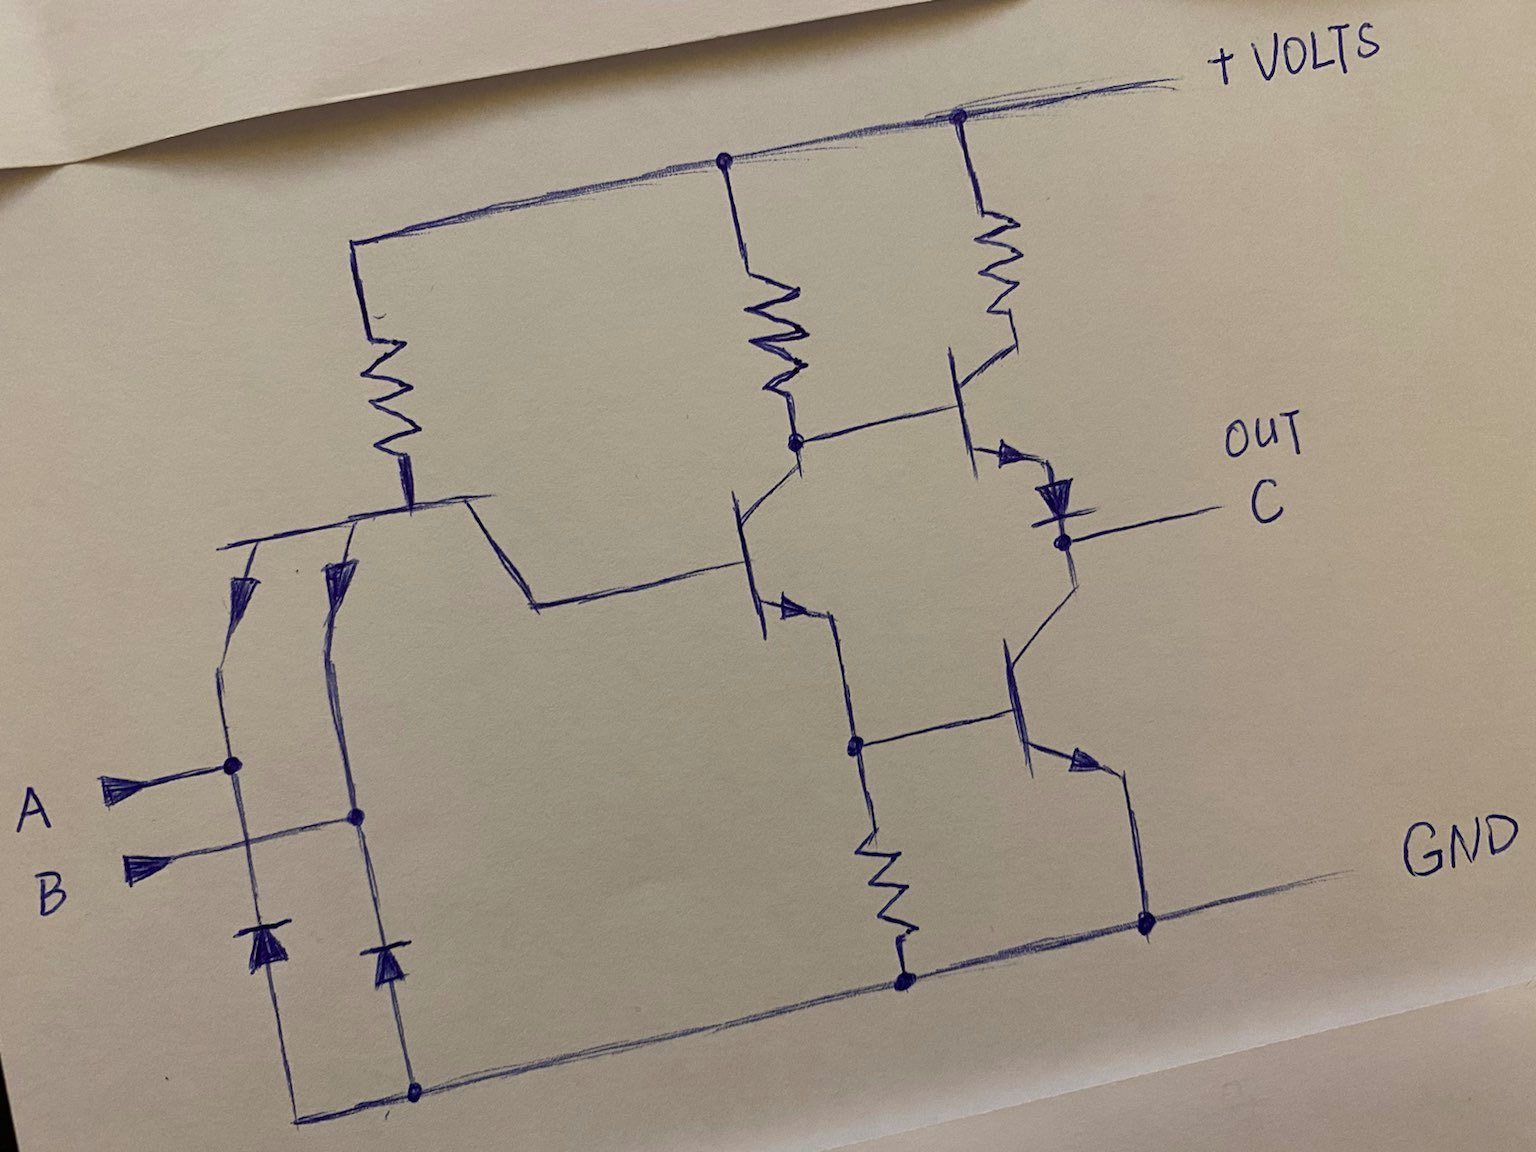crossover: (233, 829, 262, 856)
diode: (229, 911, 304, 980), (356, 932, 422, 993), (1029, 477, 1103, 528)
junction: (703, 134, 750, 186), (330, 791, 377, 837), (937, 92, 982, 138), (1126, 900, 1171, 944), (392, 1070, 435, 1114), (836, 719, 873, 770), (336, 223, 381, 264), (890, 960, 926, 1001), (209, 745, 249, 781), (781, 422, 818, 457), (281, 1100, 314, 1137), (1049, 531, 1087, 555)
resistor: (734, 261, 816, 402), (356, 321, 428, 463), (851, 820, 926, 947), (968, 196, 1035, 326)
terminal: (112, 843, 190, 889), (1294, 858, 1365, 900), (91, 766, 158, 810), (1128, 63, 1194, 100), (1176, 486, 1229, 524)
text: (1396, 808, 1523, 879), (1248, 21, 1384, 81), (1217, 404, 1307, 457), (25, 866, 73, 925), (10, 778, 56, 837), (1245, 472, 1289, 529), (1203, 40, 1236, 90)
transistor: (200, 488, 552, 663), (997, 581, 1134, 788), (724, 459, 851, 644), (941, 338, 1053, 471)
